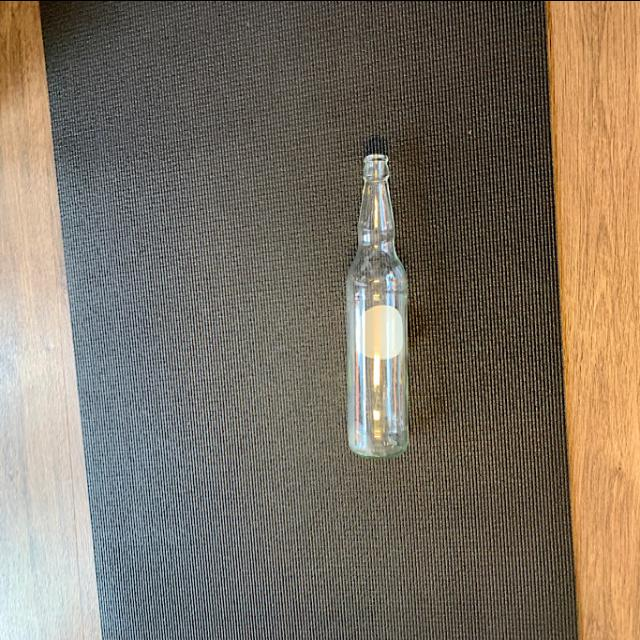Glass Bottle: (342, 150, 415, 456)
